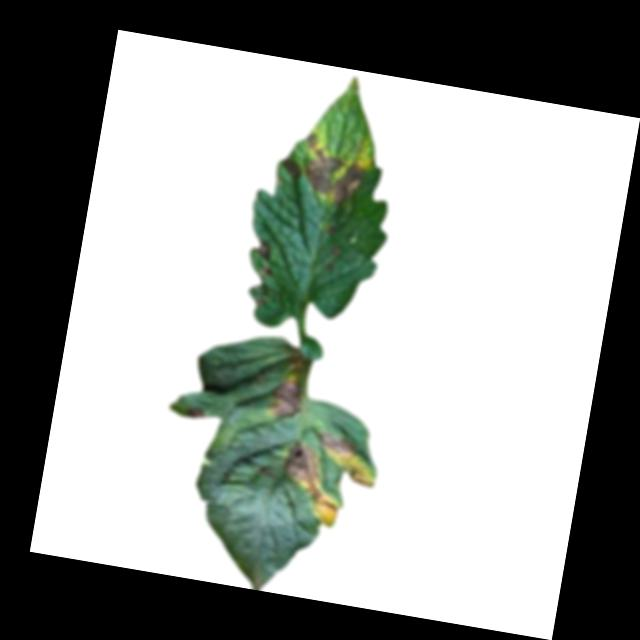Early_blight: (272, 439, 349, 531), (295, 131, 371, 210), (266, 377, 306, 423), (333, 456, 378, 490), (319, 434, 355, 460), (278, 155, 304, 182), (253, 238, 273, 261), (181, 406, 205, 421), (328, 243, 344, 259), (323, 222, 338, 237)
